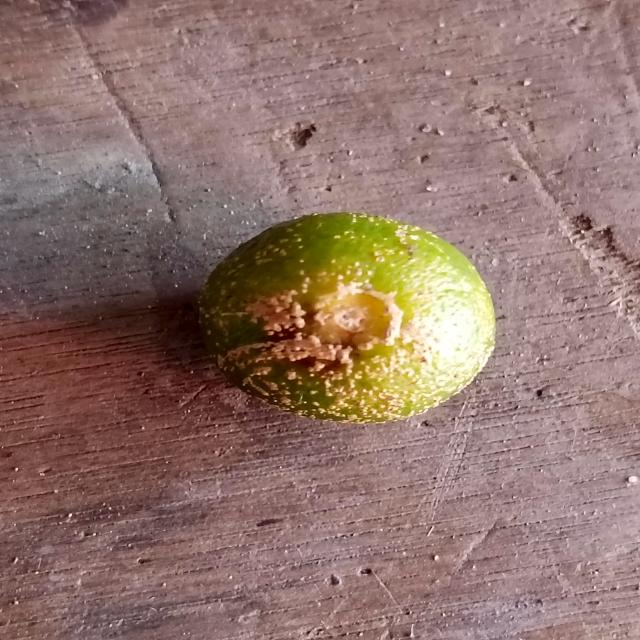scab: (197, 209, 481, 422)
